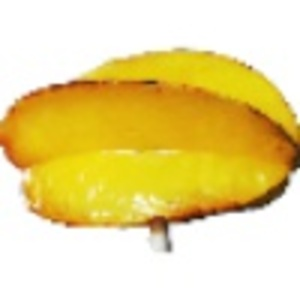carambola: (1, 45, 300, 250)
